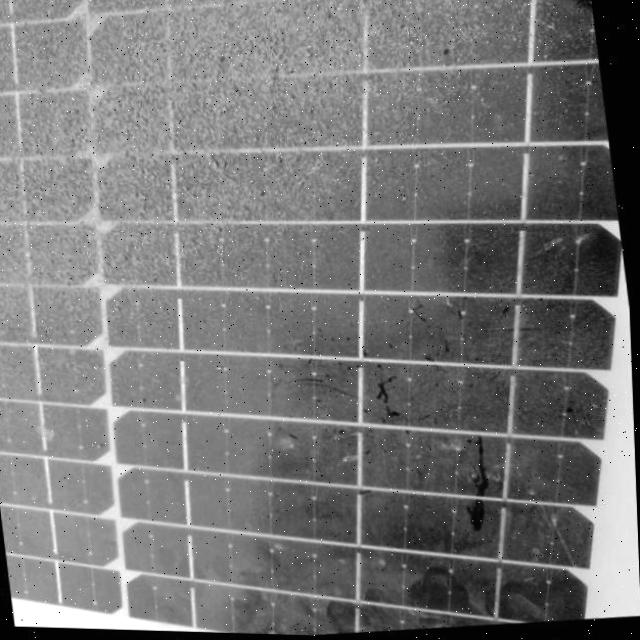Anomaly Solar Panel: (0, 0, 640, 640)
Surface Contaminant: (0, 75, 640, 638)
